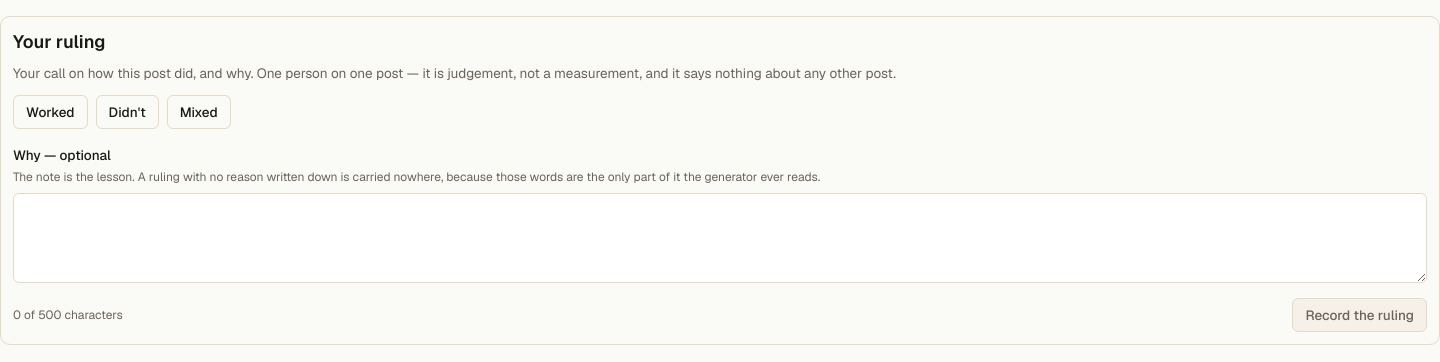
Scenario: recording a verdict › offers no submit until a verdict has been picked
Type "a reason with nothing attached" into the text box labelled "Why — optional" at (720, 238), box [13,193,1427,283]
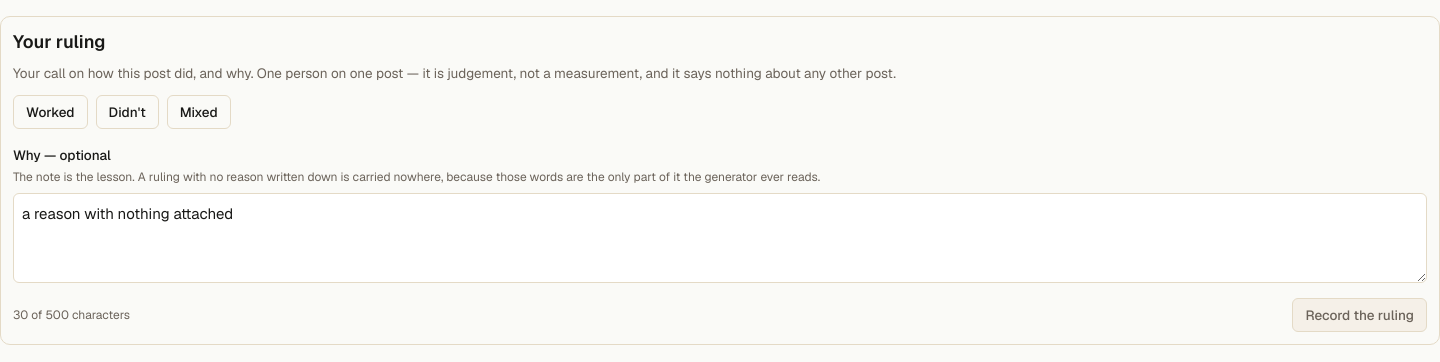
Expected: the button "Record the ruling" is disabled, [1292,298,1427,332]
Click the button "Mixed" at (199, 112), box [167,95,231,129]
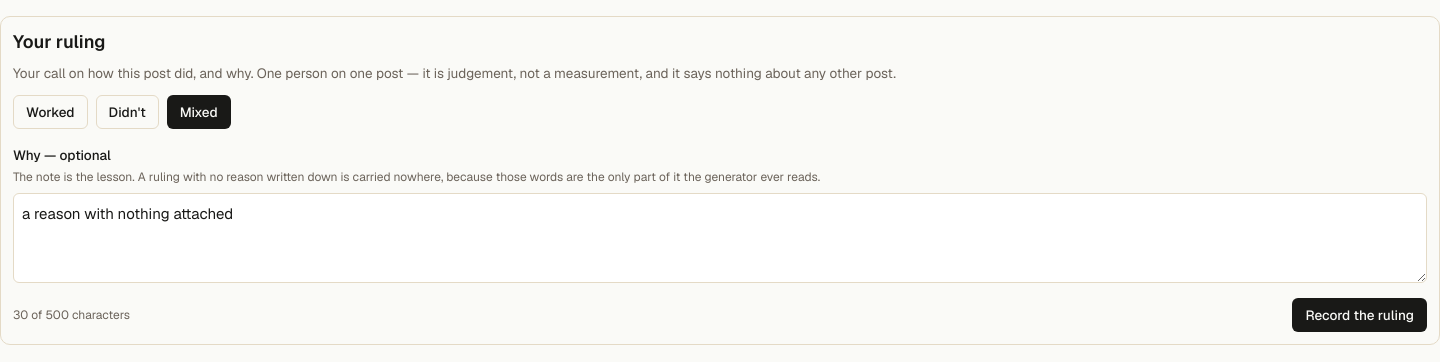
Expected: the button "Record the ruling" is enabled, [1292,298,1427,332]
